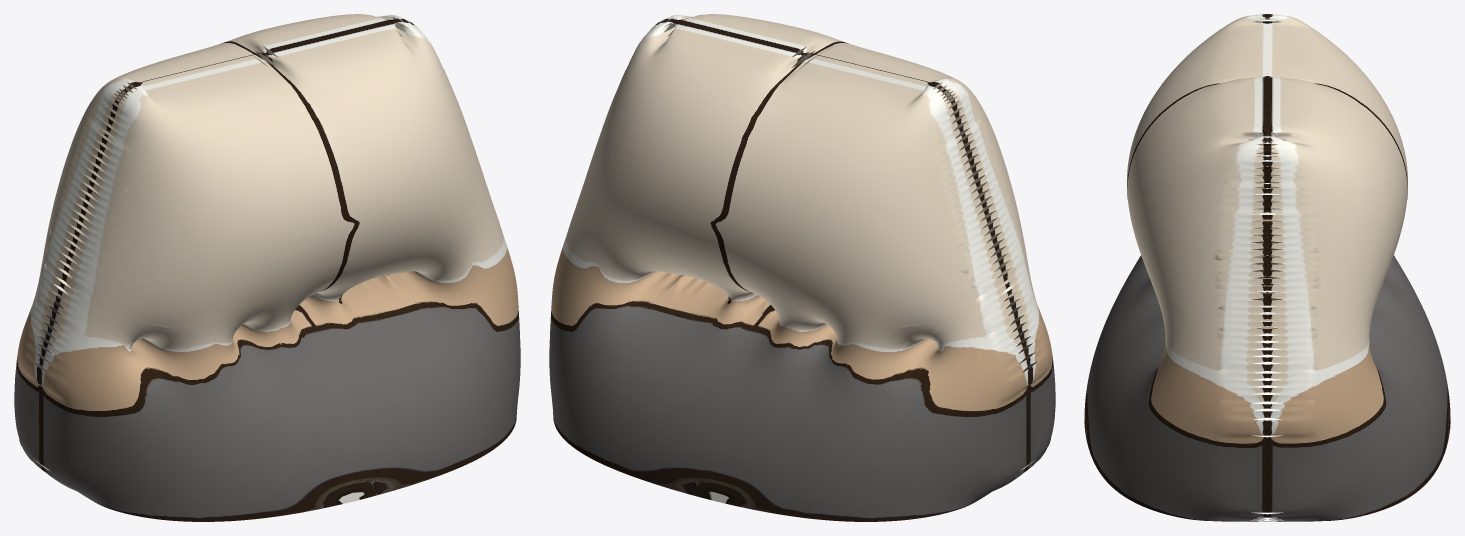
The model's file is hull_wall.glb.
3 views of the same model, side by side, from view 1: azimuth 30°, elevation 25°; view 2: azimuth 150°, elevation 25°; view 3: azimuth 270°, elevation 25° (orthographic). The views are drawn at different scales.
Visible parts, largest first — view 1: hull_wall; view 2: hull_wall; view 3: hull_wall.
Part boxes in pixels (x1,y1,x2,y2): hull_wall: (14,14,520,521); hull_wall: (549,14,1055,521); hull_wall: (1084,14,1450,521).
Size of the model in its own units: 0.9889 by 0.7776 by 0.7351.
1 material, 1 textured.
